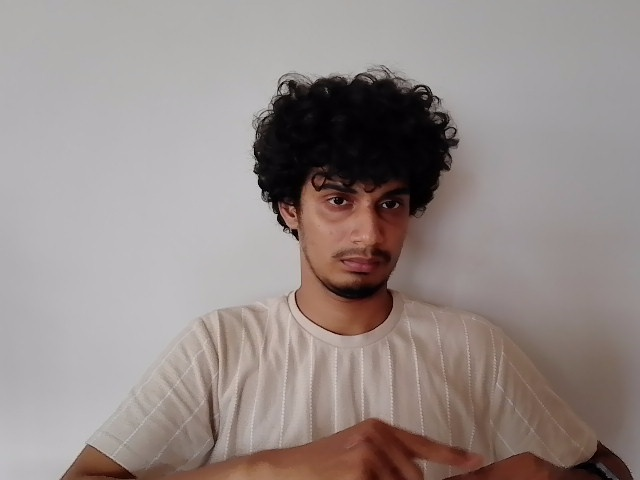about: (239, 417, 574, 480)
